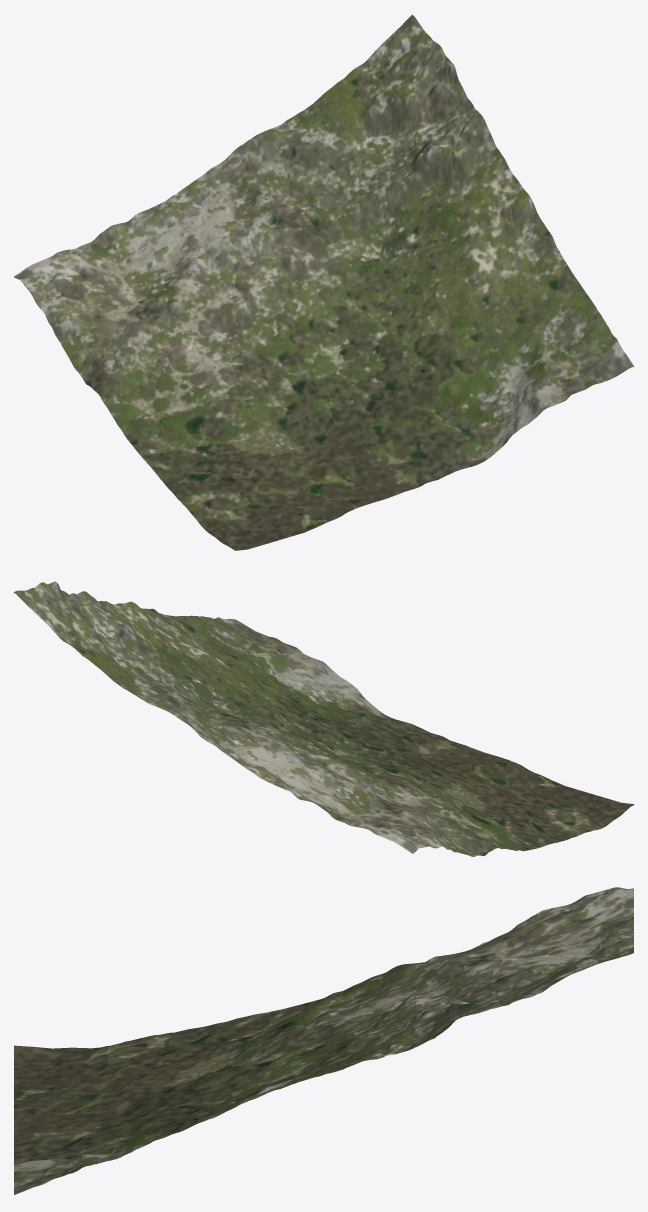
The picture shows the model from 3 angles, top to bottom: view 1: azimuth 30°, elevation 25°; view 2: azimuth 150°, elevation 25°; view 3: azimuth 270°, elevation 25°; orthographic projection. The views are drawn at different scales.
Bounding box in the file's own units: 250 × 168 × 241.
Materials: 1 (1 with a texture image).
